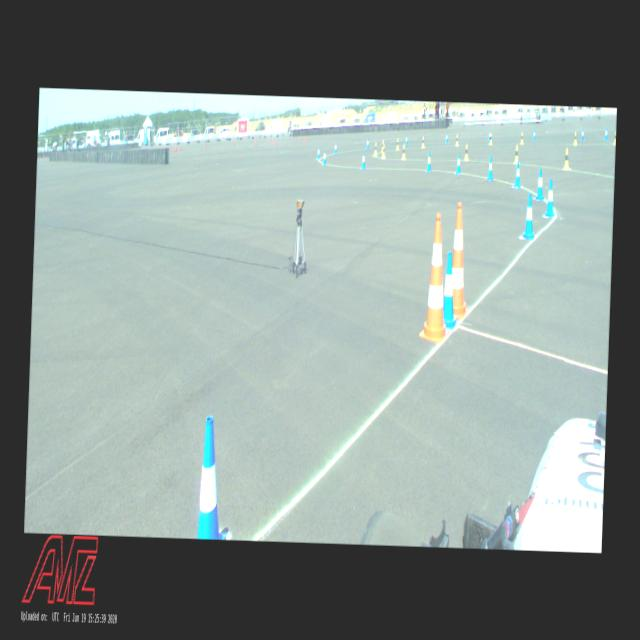blue_cone: (196, 416, 229, 540), (441, 250, 460, 330), (522, 192, 536, 238), (544, 178, 556, 218), (536, 168, 544, 200), (486, 156, 494, 180), (454, 152, 462, 174), (514, 161, 520, 188), (360, 151, 366, 169), (426, 151, 431, 171), (316, 146, 321, 161), (322, 149, 326, 165), (580, 128, 584, 140), (333, 142, 337, 154), (604, 128, 608, 140), (444, 132, 448, 144), (404, 134, 408, 146), (532, 128, 535, 140), (487, 130, 490, 141), (366, 138, 368, 150)
large_orange_cone: (418, 214, 454, 344), (450, 202, 472, 320)
yellow_cone: (562, 146, 572, 170), (513, 144, 519, 162), (464, 143, 469, 161), (401, 144, 406, 160), (373, 142, 377, 156), (612, 130, 616, 144), (382, 144, 386, 158), (573, 132, 577, 144), (455, 134, 459, 146), (520, 132, 524, 144), (488, 132, 492, 144), (422, 136, 424, 148), (381, 140, 383, 152), (396, 138, 398, 149)
